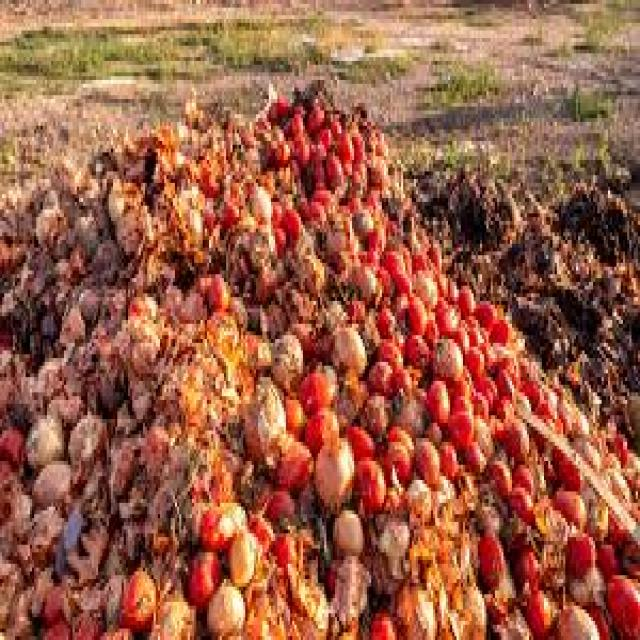Food -Biodegradable-: (0, 80, 640, 640)
